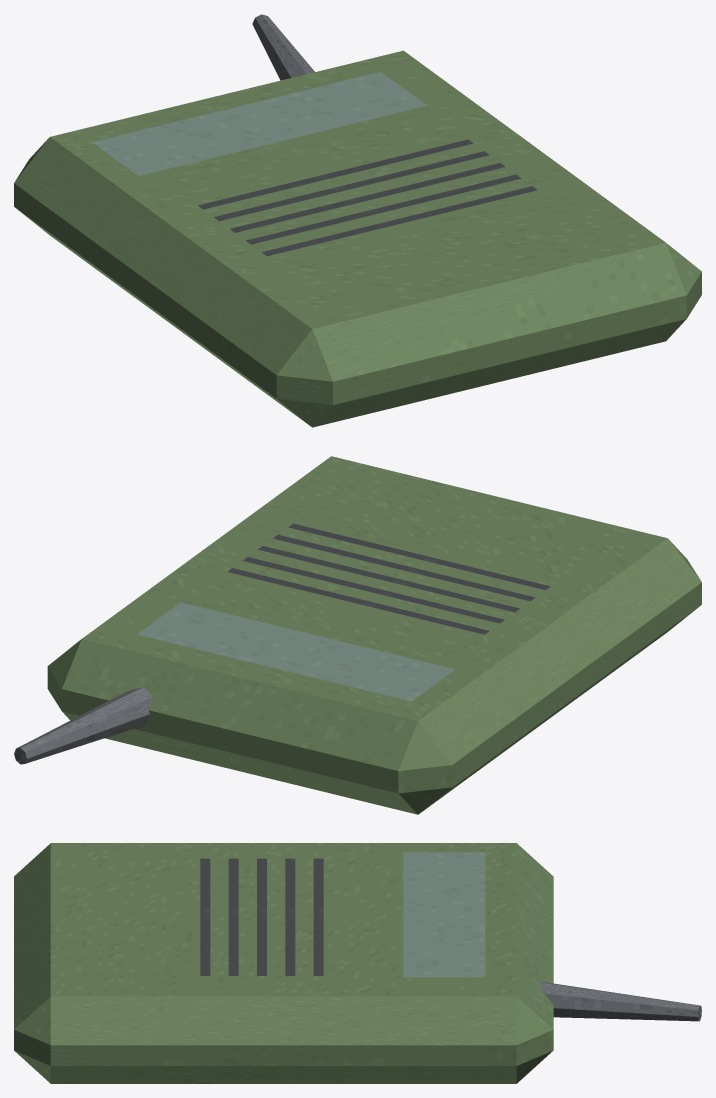
Rendered from two_way_radio.glb.
The picture shows the model from 3 angles, top to bottom: view 1: azimuth 30°, elevation 25°; view 2: azimuth 150°, elevation 25°; view 3: azimuth 270°, elevation 25°; orthographic projection. The views are drawn at different scales.
Parts seen in each view (by area): view 1: block_handheld control body, block_display, block_speaker grille (×5), block_antenna; view 2: block_handheld control body, block_display, block_speaker grille (×5), block_antenna; view 3: block_handheld control body, block_display, block_speaker grille (×5), block_antenna.
Boxes of the visible parts, bbox=[...] form: block_handheld control body: bbox=[14, 50, 701, 427]; block_display: bbox=[92, 72, 426, 175]; block_speaker grille (×5): bbox=[198, 139, 537, 256]; block_antenna: bbox=[252, 14, 314, 80]; block_handheld control body: bbox=[47, 456, 701, 814]; block_display: bbox=[137, 602, 454, 701]; block_speaker grille (×5): bbox=[227, 523, 550, 634]; block_antenna: bbox=[14, 687, 152, 764]; block_handheld control body: bbox=[14, 843, 553, 1083]; block_display: bbox=[403, 852, 485, 977]; block_speaker grille (×5): bbox=[200, 858, 323, 975]; block_antenna: bbox=[538, 982, 701, 1021].
Bounding box in the file's own units: 0.0956 × 0.0215 × 0.1508.
Materials: 1 (1 with a texture image).
